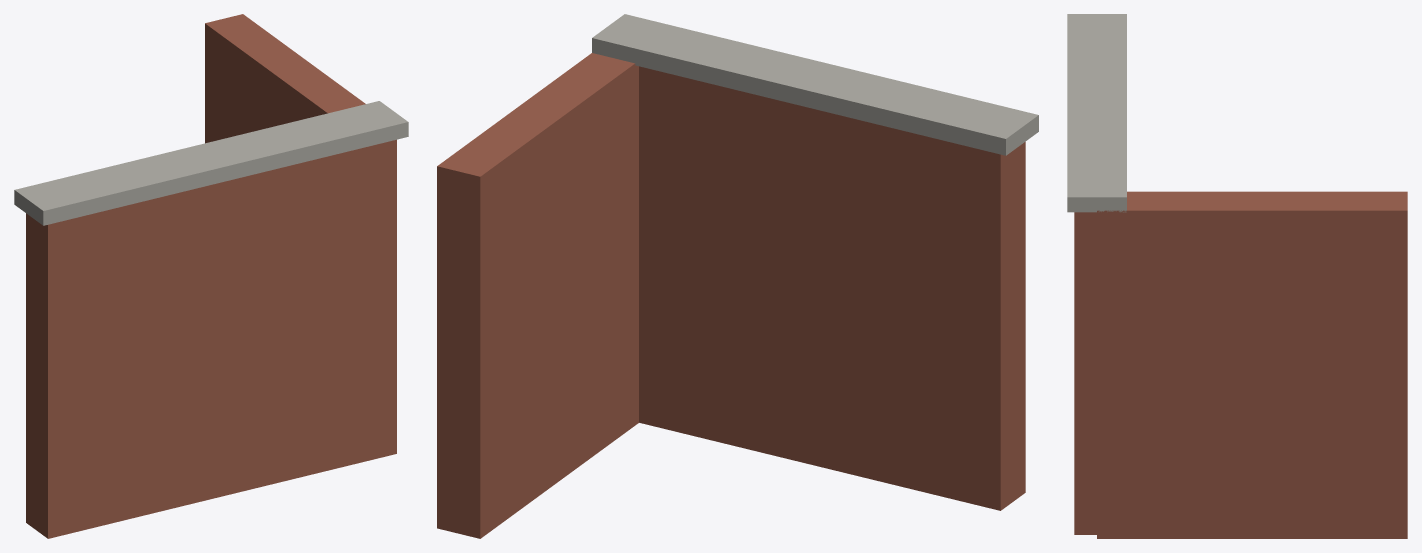
3 views of the same model, side by side, from view 1: azimuth 30°, elevation 25°; view 2: azimuth 150°, elevation 25°; view 3: azimuth 270°, elevation 25° (orthographic). The views are drawn at different scales.
Parts seen in each view (by area): view 1: QH-A0104_V01_geometry; view 2: QH-A0104_V01_geometry; view 3: QH-A0104_V01_geometry.
Part boxes in pixels (left/top/right/bottom): QH-A0104_V01_geometry: left=14, top=14, right=408, bottom=538; QH-A0104_V01_geometry: left=437, top=14, right=1038, bottom=538; QH-A0104_V01_geometry: left=1067, top=14, right=1407, bottom=538.
Size of the model in its own units: 3.35 by 2.91 by 2.63.
